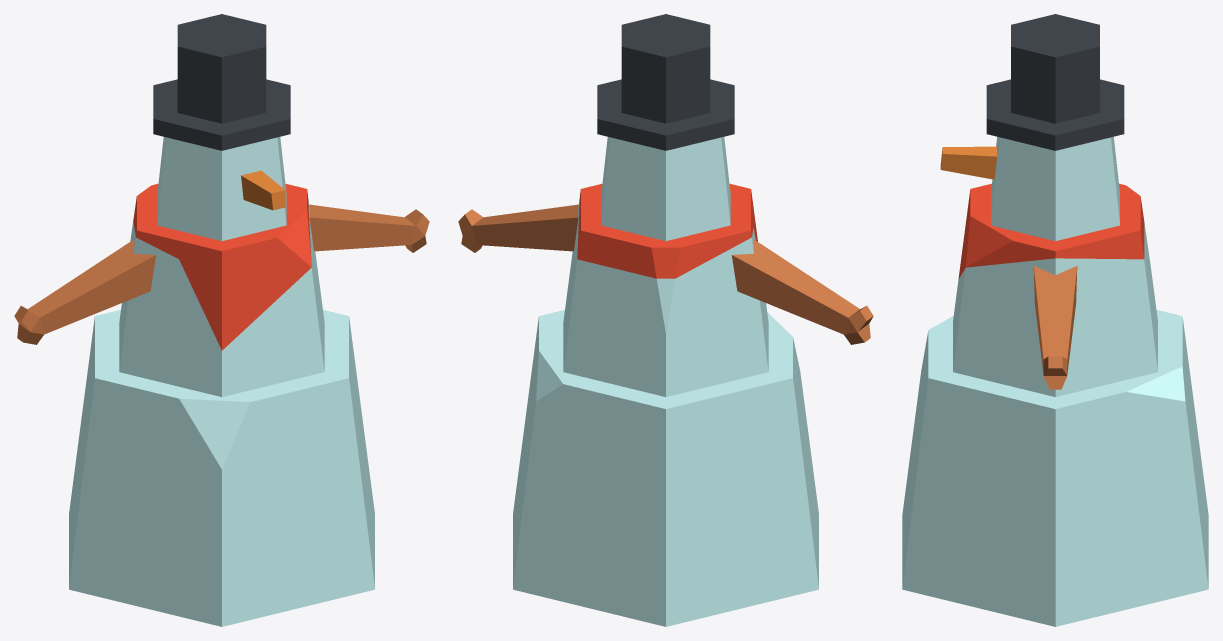
The model's file is snowmanFancy.dae.
The picture shows the model from 3 angles, left to right: view 1: azimuth 30°, elevation 25°; view 2: azimuth 150°, elevation 25°; view 3: azimuth 270°, elevation 25°; orthographic projection.
Parts seen in each view (by area): view 1: snowmanFancy; view 2: snowmanFancy; view 3: snowmanFancy.
Boxes of the visible parts, bbox=[...] form: snowmanFancy: bbox=[14, 14, 429, 626]; snowmanFancy: bbox=[458, 14, 873, 626]; snowmanFancy: bbox=[902, 14, 1208, 626].
Size of the model in its own units: 0.6935 by 0.8381 by 0.4503.
